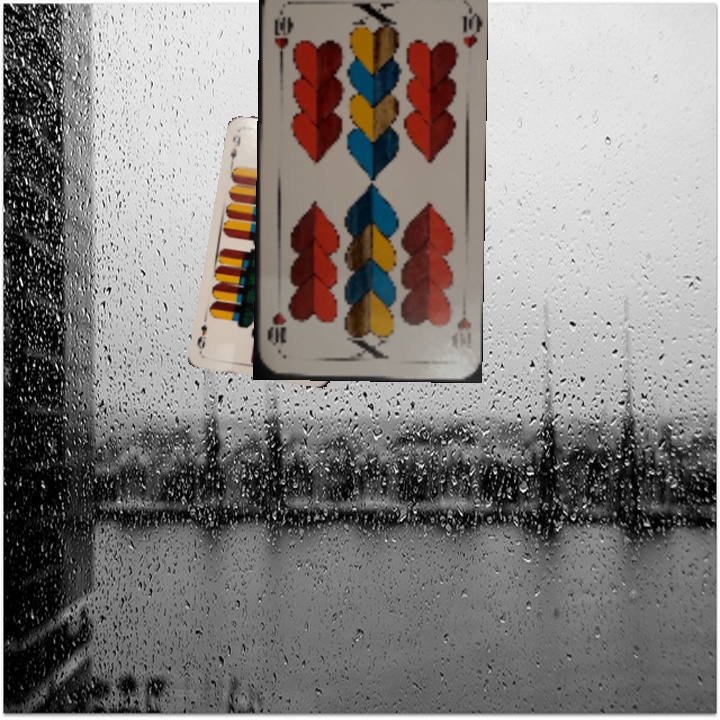E9: (226, 130, 243, 167)
H10: (448, 297, 474, 351), (270, 5, 293, 63)
